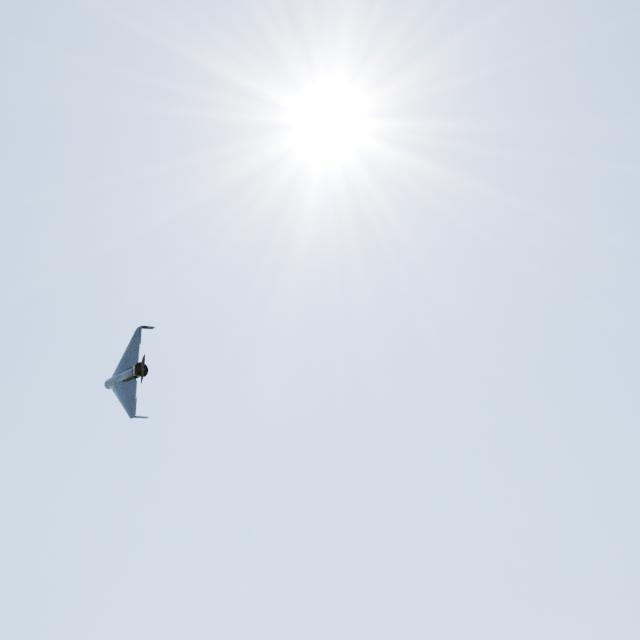Airaplan: (104, 325, 156, 419)
